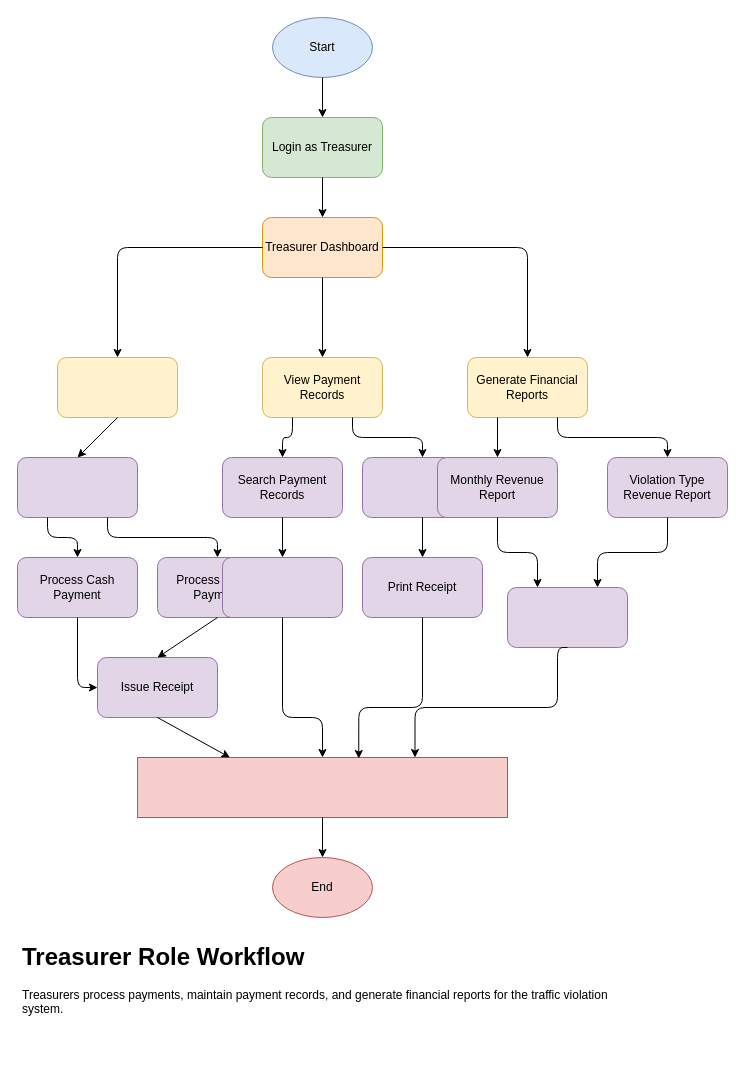
Some shapes in this 745 by 1075 pixel diagram are drawn without their labels. Here are the shapes that lost their labels. From the top down, the centre of each, then its label:
(x=117, y=387): Process Payments
(x=77, y=487): Verify Violation Details
(x=422, y=487): View Receipt Details
(x=282, y=587): Filter By Date Range
(x=567, y=617): Export Reports
(x=322, y=787): Payment Recorded
